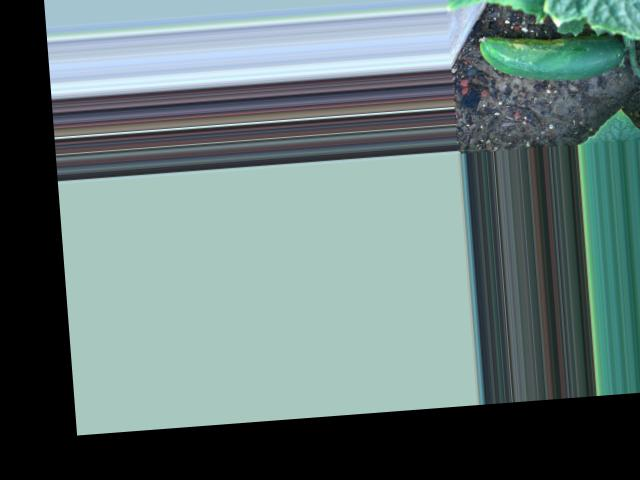cucumber: (478, 25, 625, 86)
